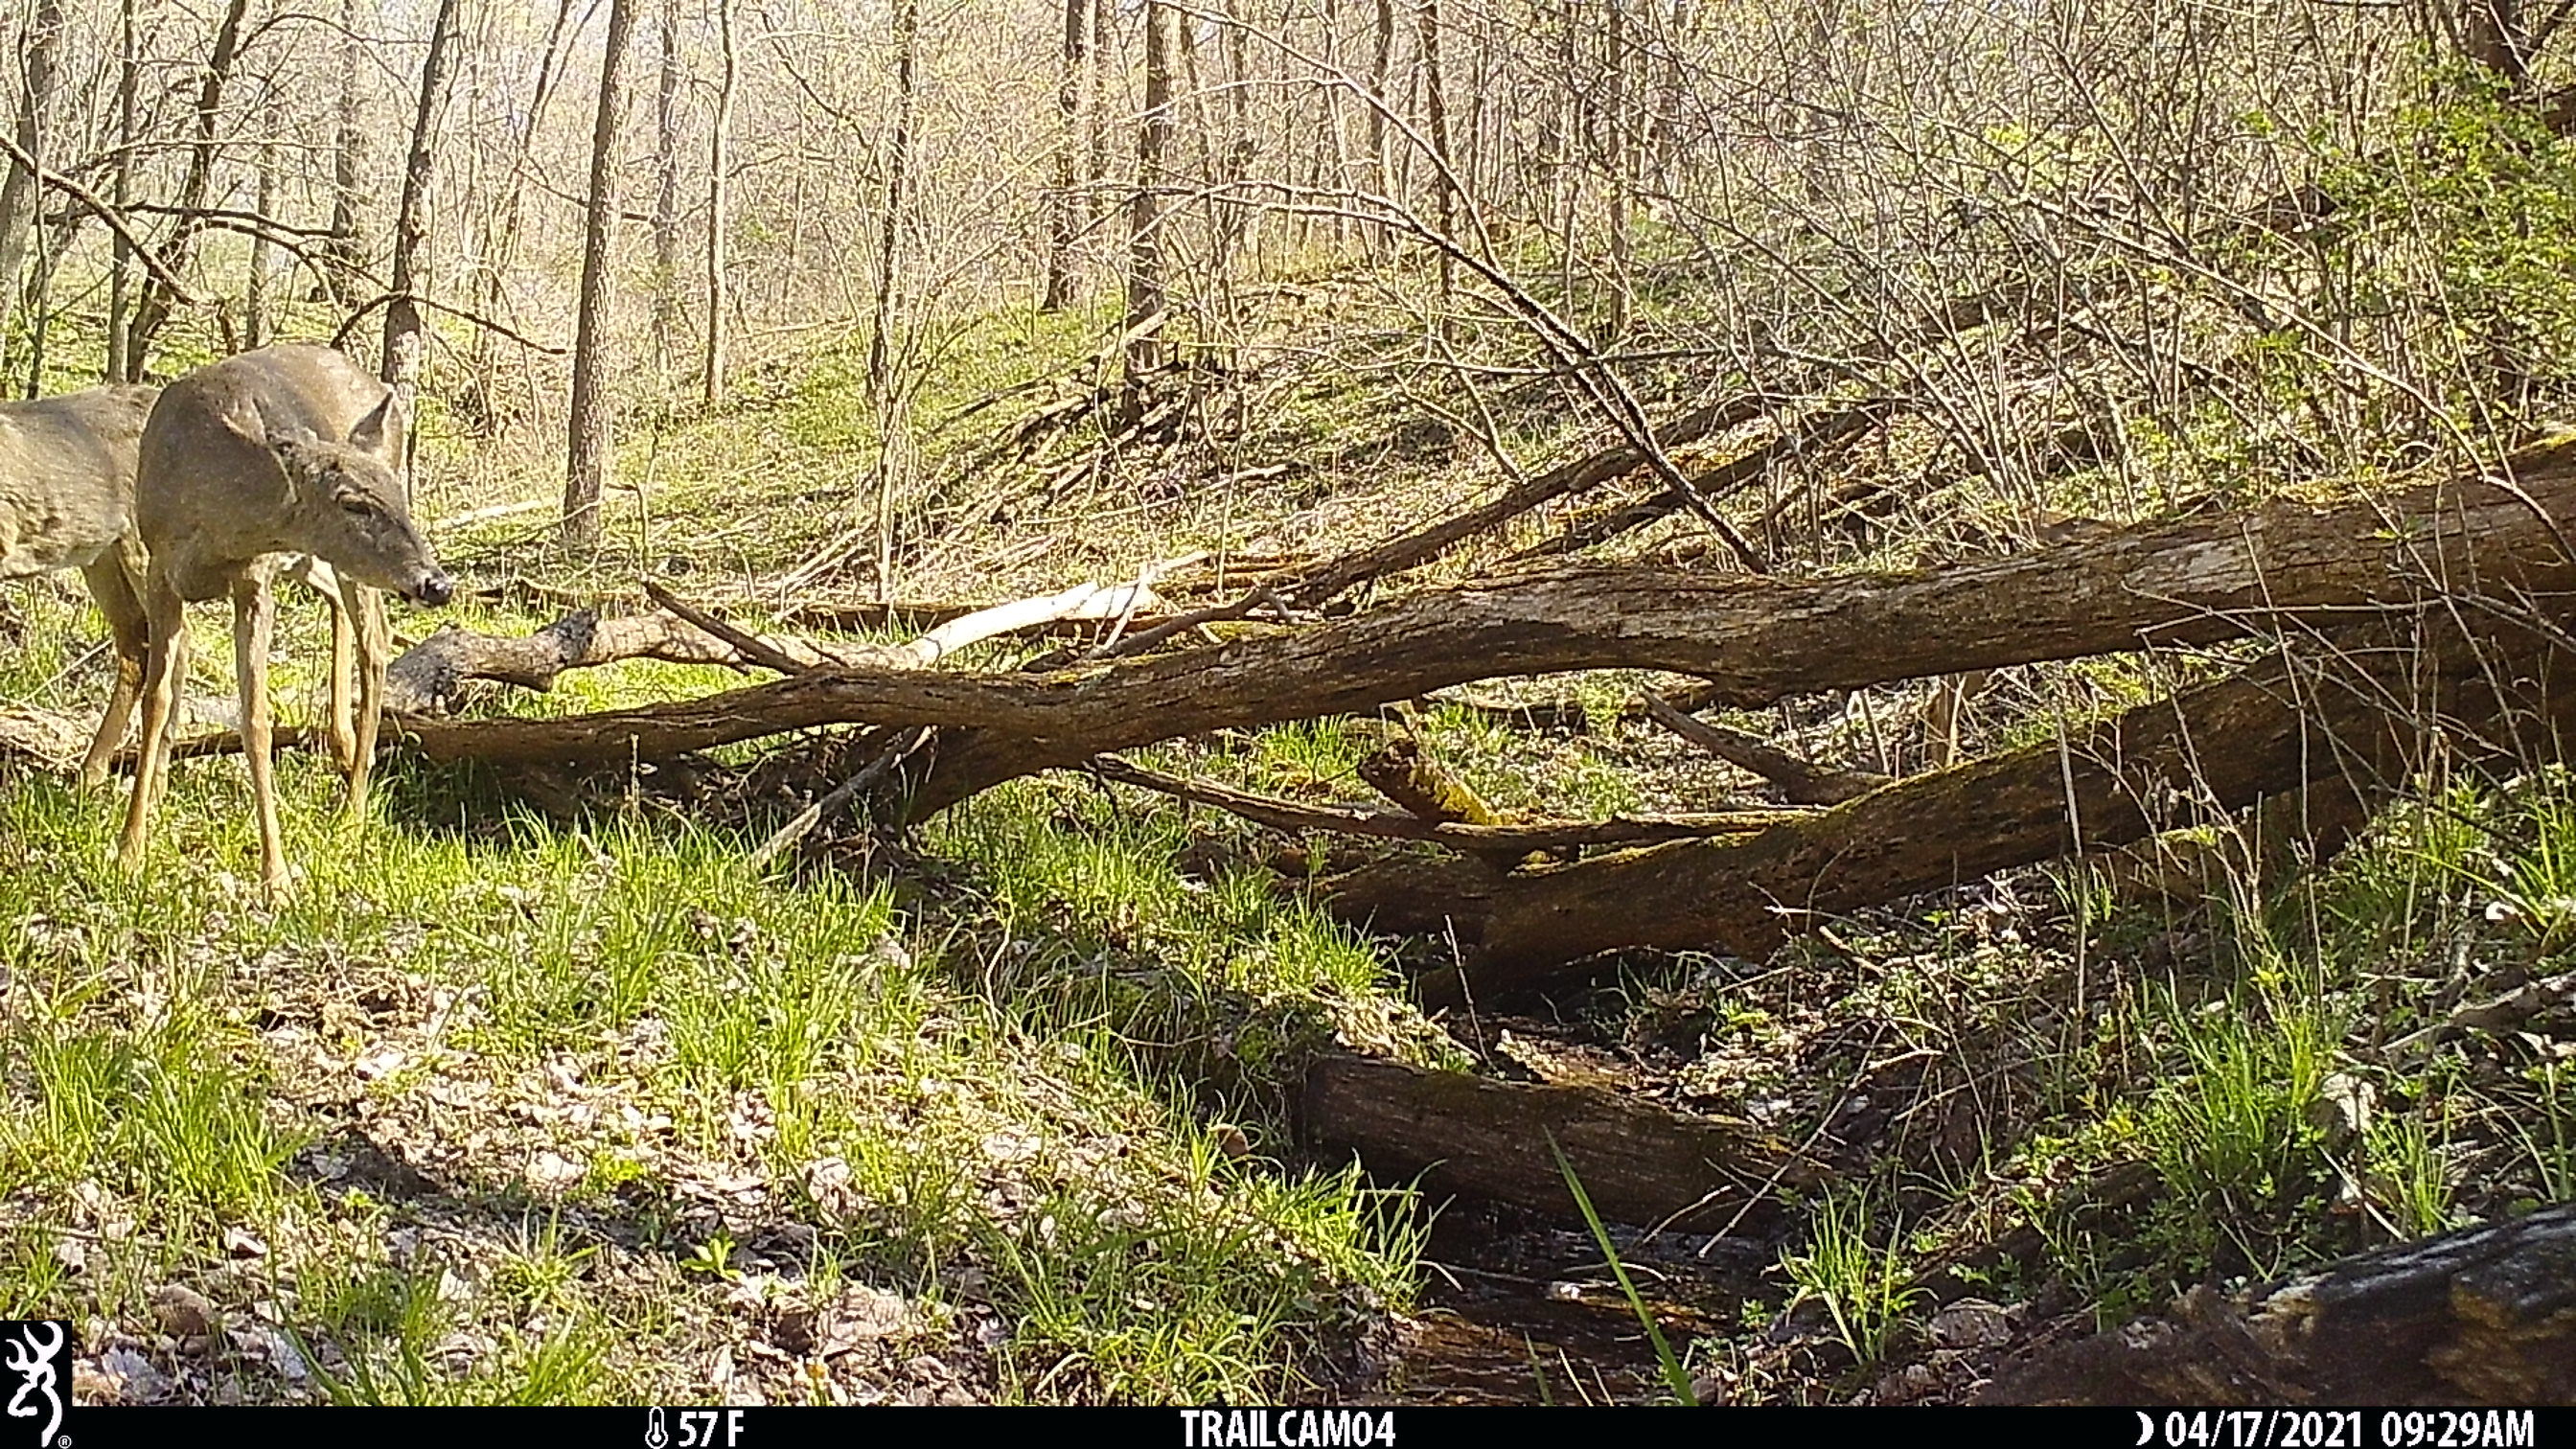Deer: (2, 379, 175, 787)
DeerDoe: (108, 341, 455, 879)
